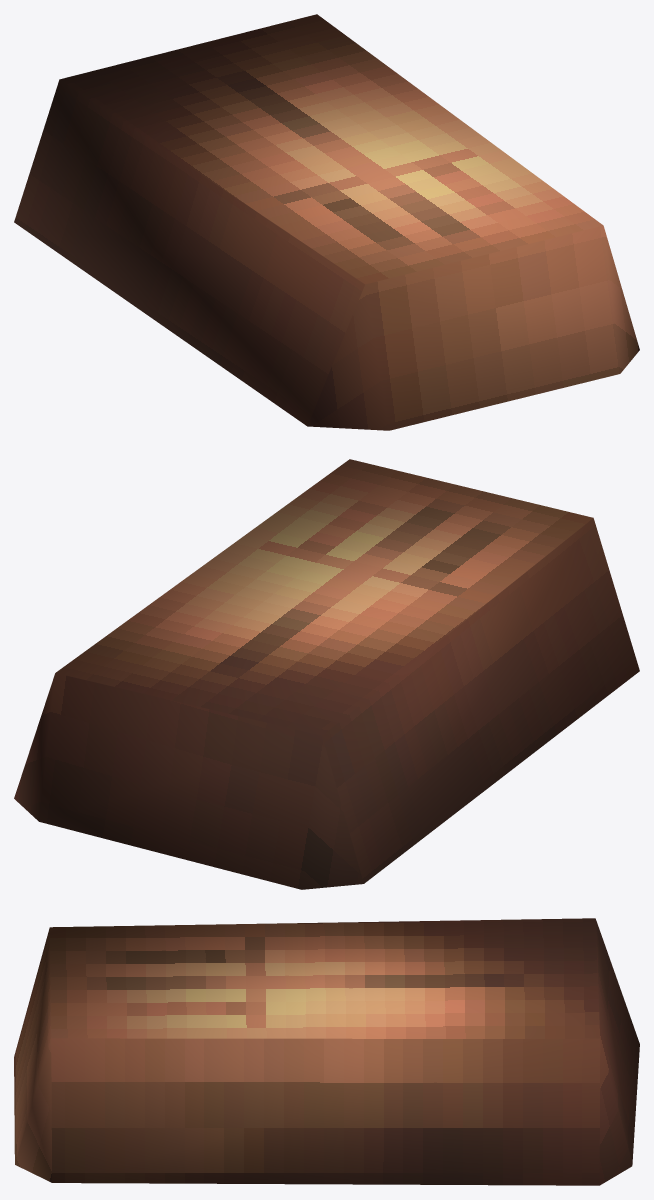
File: bronze.glb
The picture shows the model from 3 angles, top to bottom: view 1: azimuth 30°, elevation 25°; view 2: azimuth 150°, elevation 25°; view 3: azimuth 270°, elevation 25°; orthographic projection. The views are drawn at different scales.
Visible parts, largest first — view 1: bronze_ingot; view 2: bronze_ingot; view 3: bronze_ingot.
Part boxes in pixels (x1,y1,x2,y2): bronze_ingot: [14, 14, 639, 430]; bronze_ingot: [14, 459, 639, 889]; bronze_ingot: [14, 918, 639, 1185].
Size of the model in its own units: 0.4486 by 0.1666 by 0.7414.
Materials: 1 (1 with a texture image).
